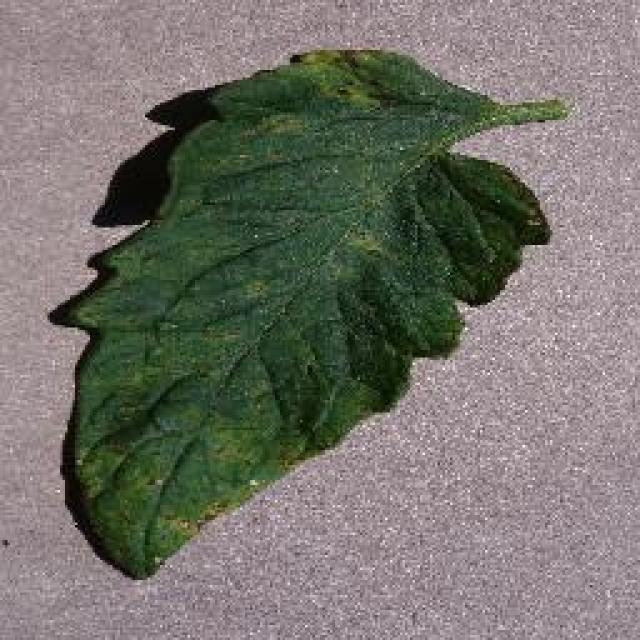Tomato___Septoria_leaf_spot: (68, 50, 562, 575)
